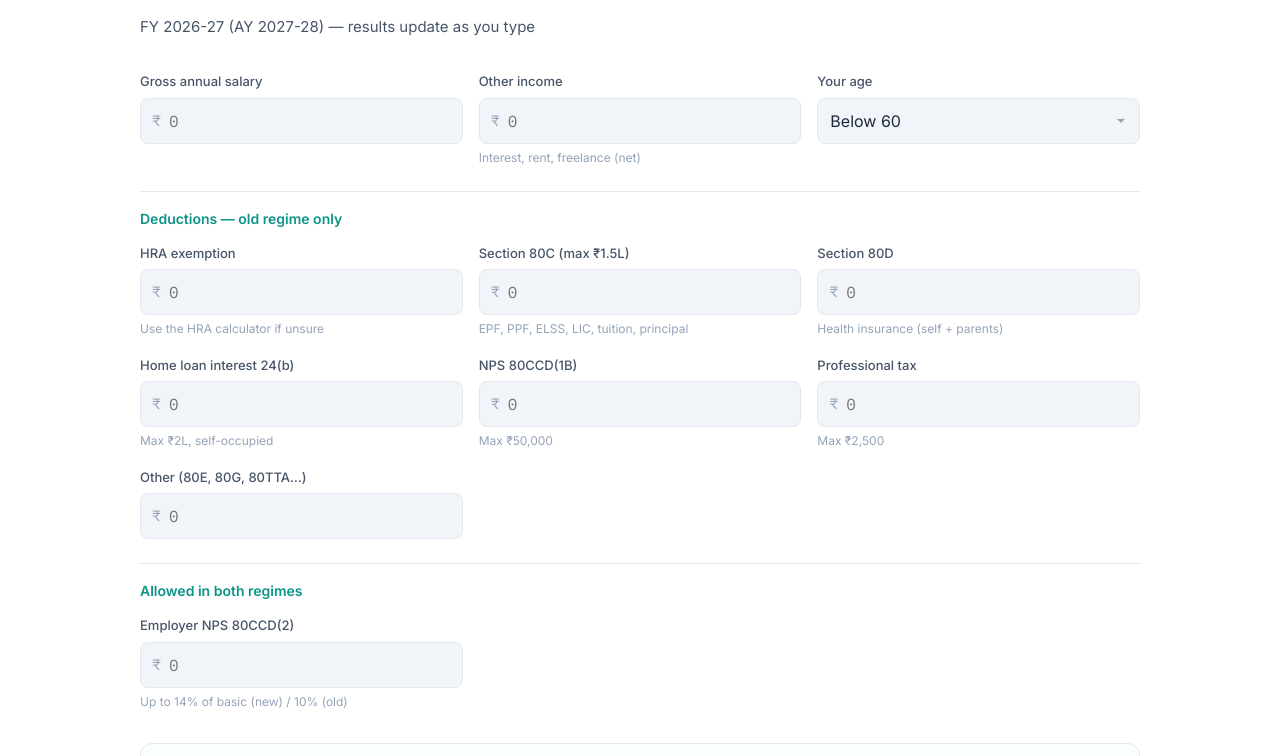
Test case: OldVsNewRegimeComparison page › recommends the old regime when deductions are large
Type "2000000" into the number field with placeholder "0" below "Gross annual salary" at (301, 121), box [140,98,463,144]
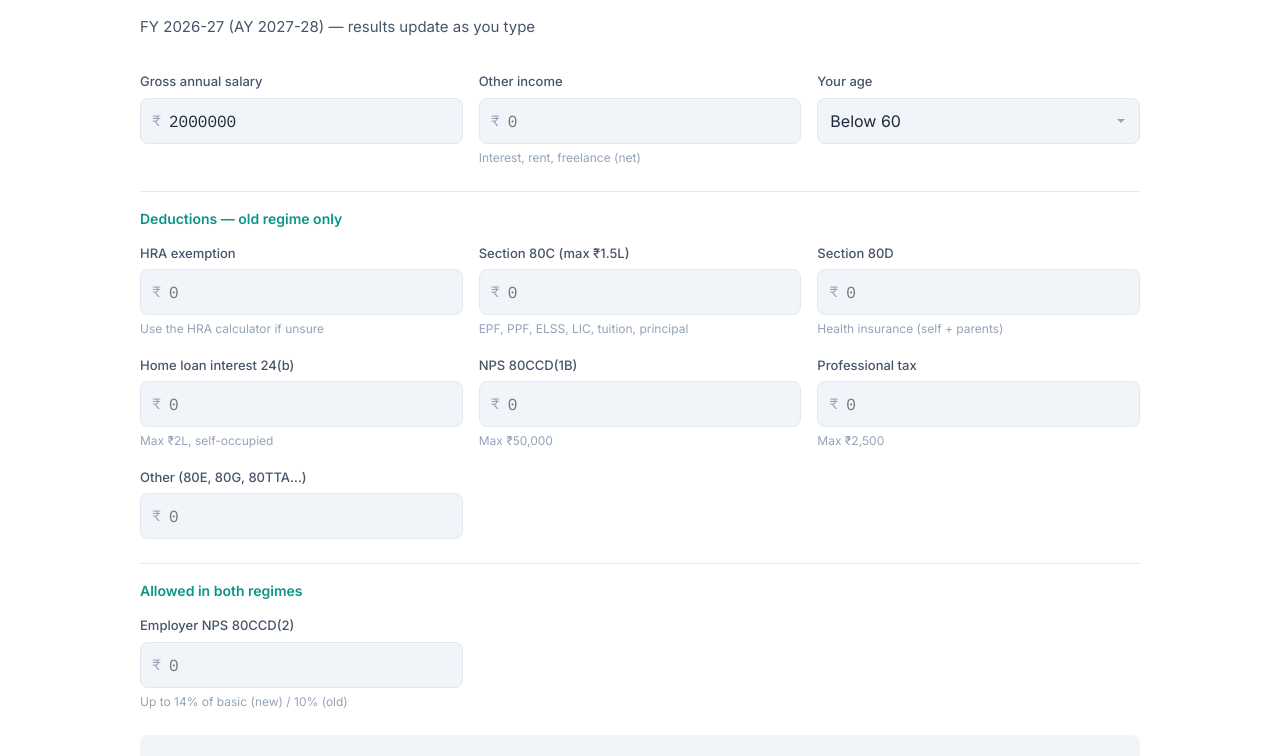
Type "300000" into the 2nd number field with placeholder "0" at (301, 292), box [140,269,463,315]
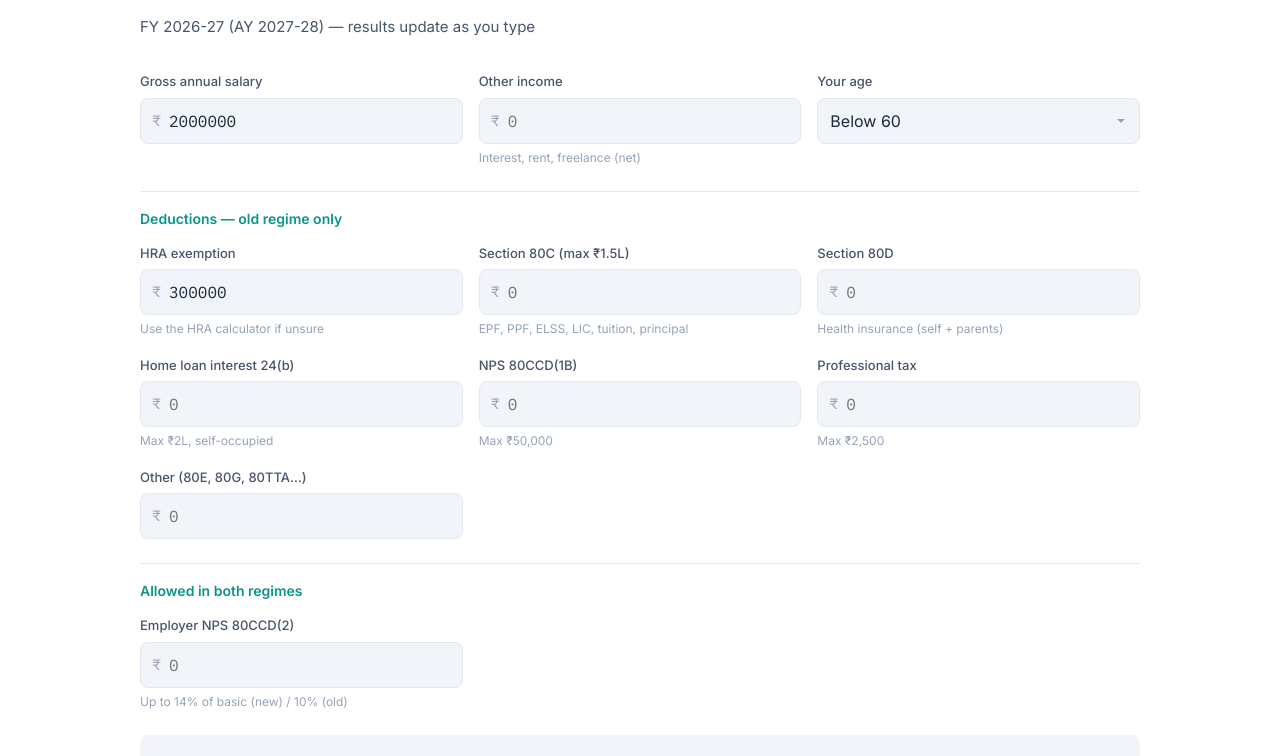
Type "150000" into the number field with placeholder "0" below "Section 80C (max ₹1.5L)" at (640, 292), box [479,269,801,315]
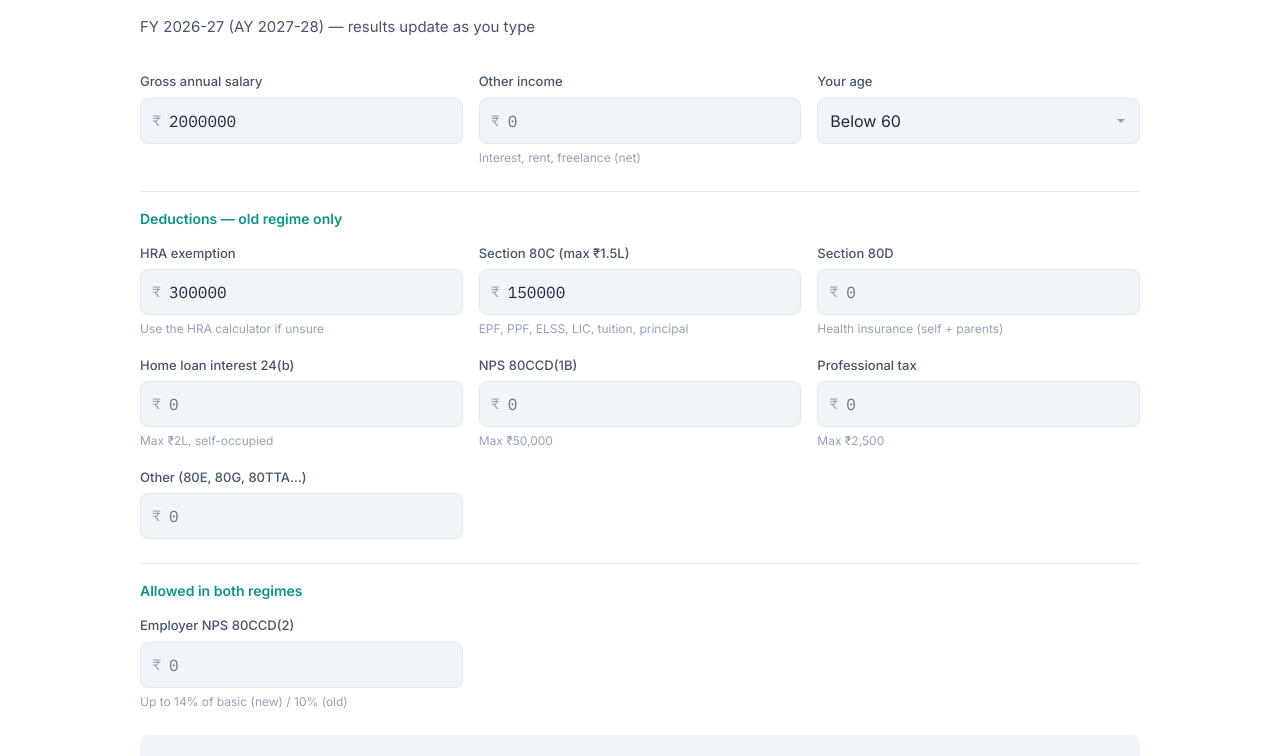
Type "50000" into the number field with placeholder "0" below "Section 80D" at (979, 292), box [817,269,1140,315]
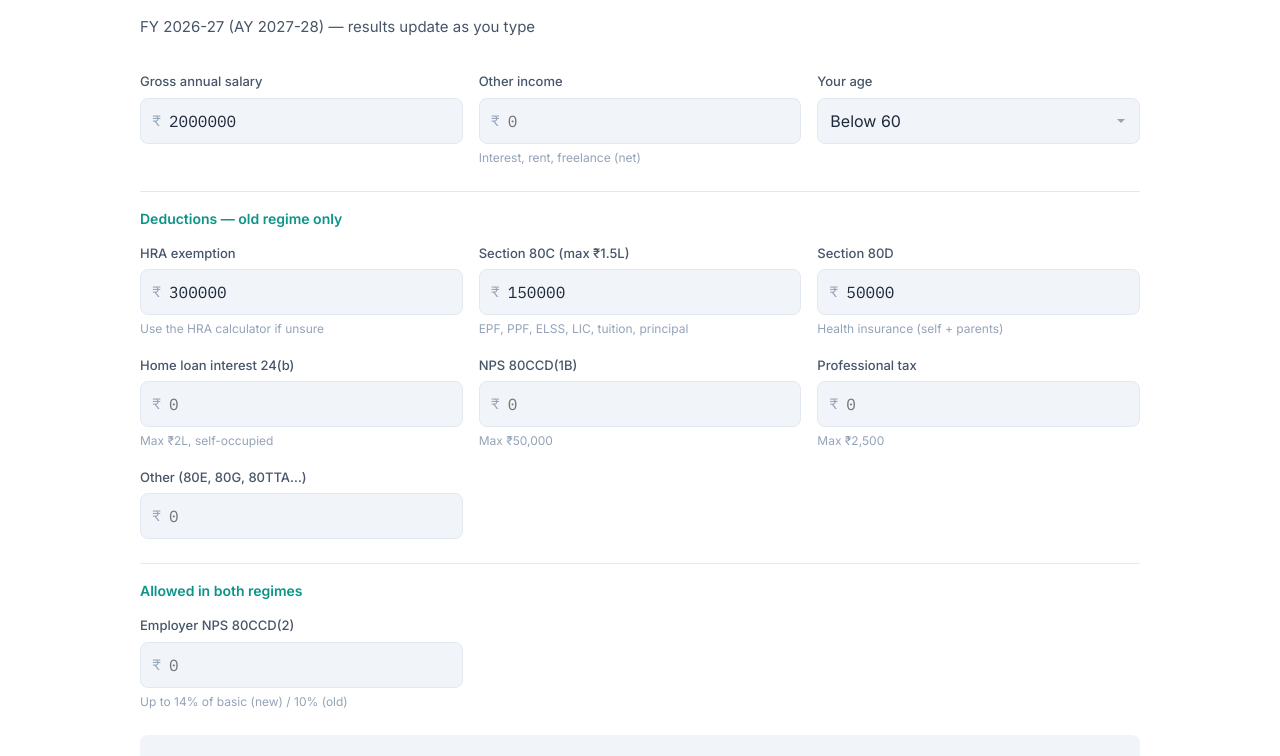
Type "200000" into the number field with placeholder "0" below "Home loan interest 24(b)" at (301, 404), box [140,381,463,427]
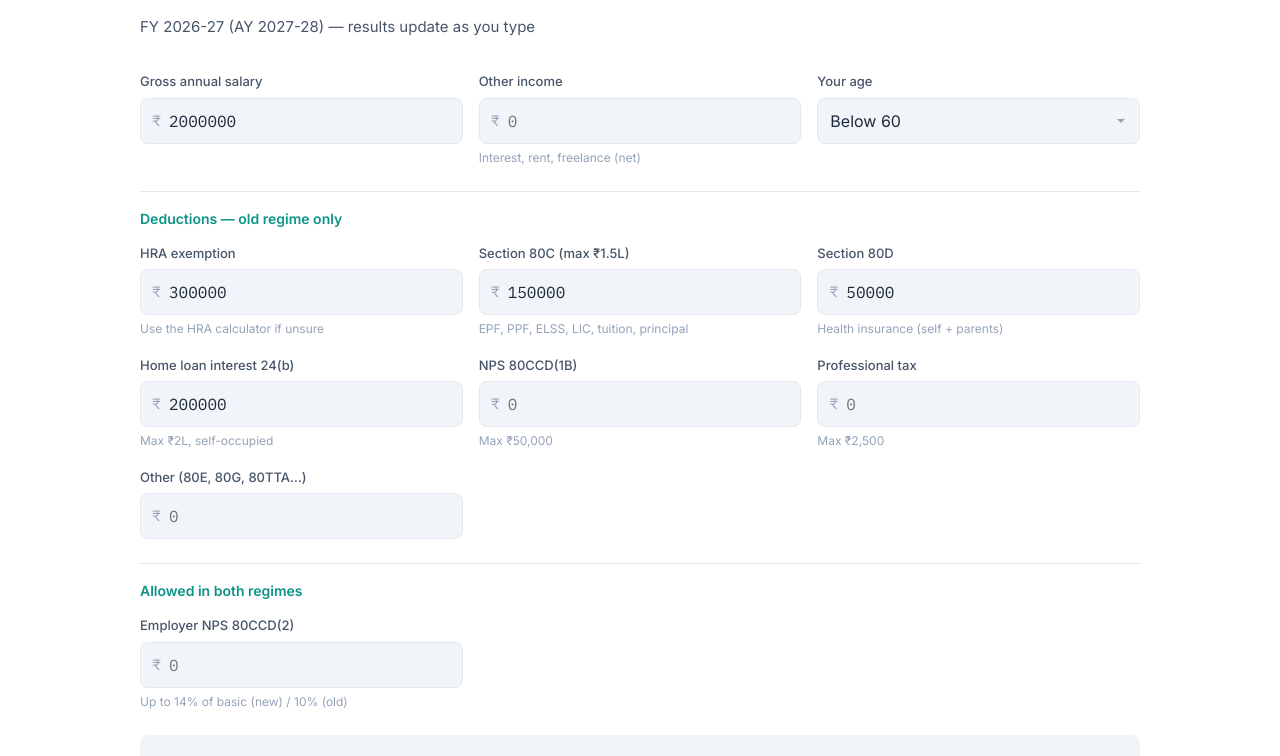
Type "50000" into the number field with placeholder "0" below "NPS 80CCD(1B)" at (640, 404), box [479,381,801,427]
(page scrolled)
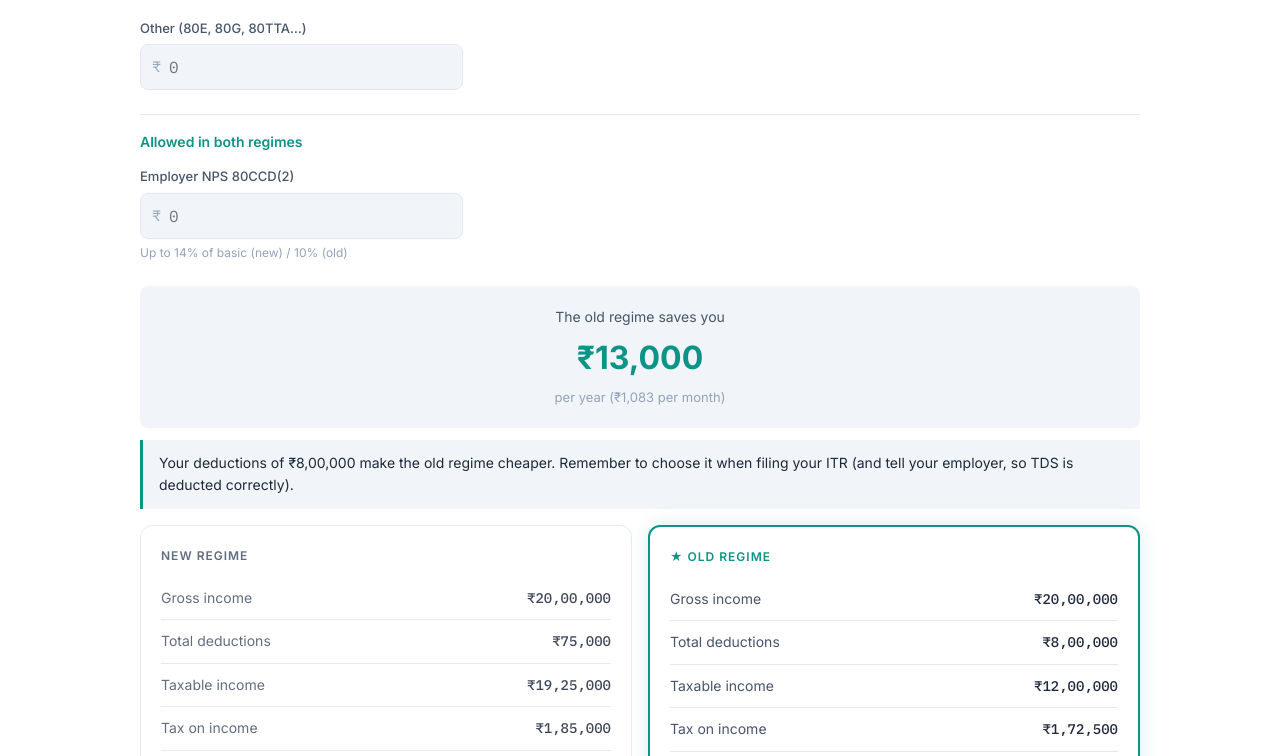
Result: the element with test id "regime-verdict" shows "old regime saves you" at [555,308,725,325]
